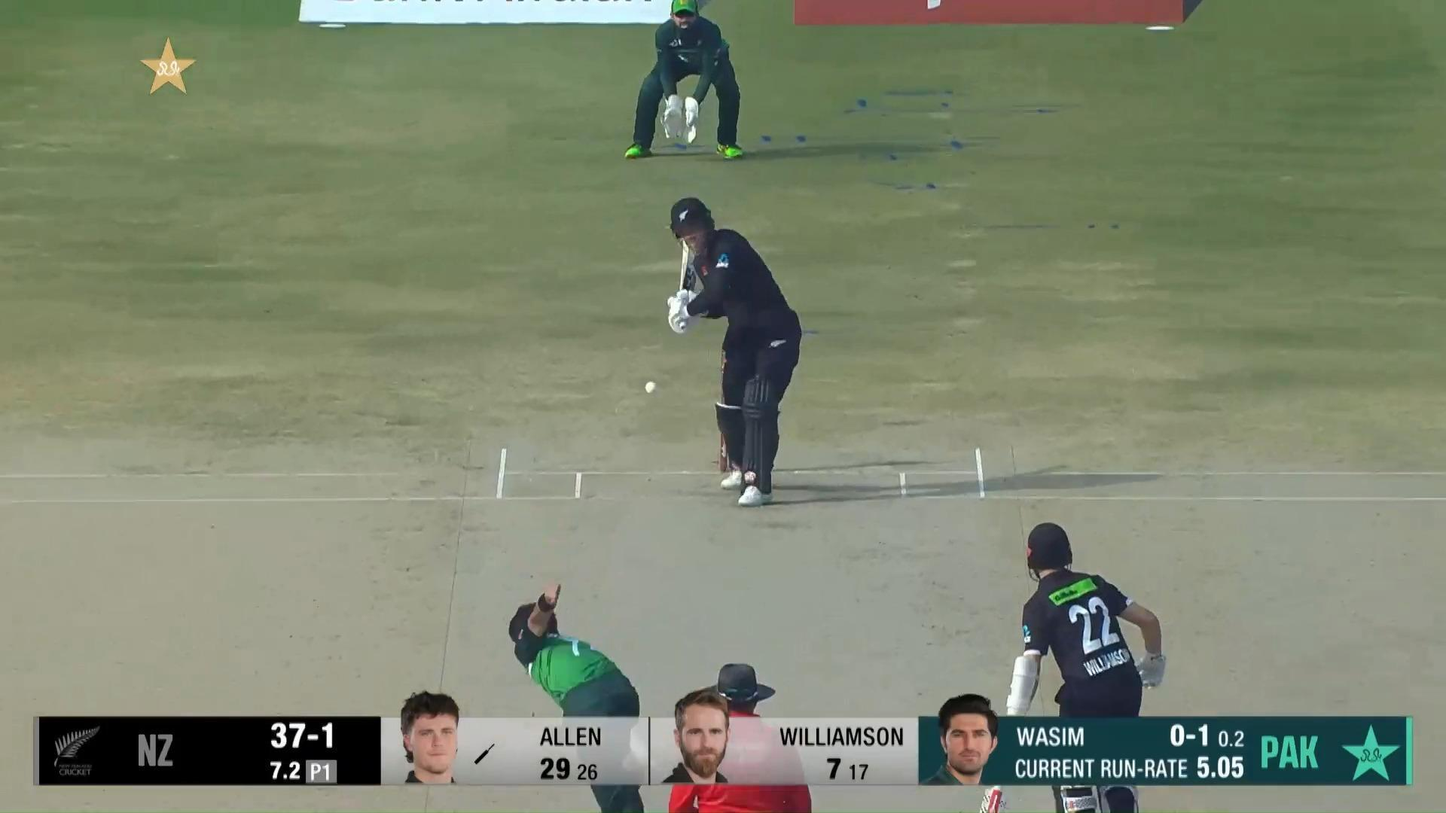BM 1: (667, 197, 802, 506)
BO: (511, 581, 646, 813)
